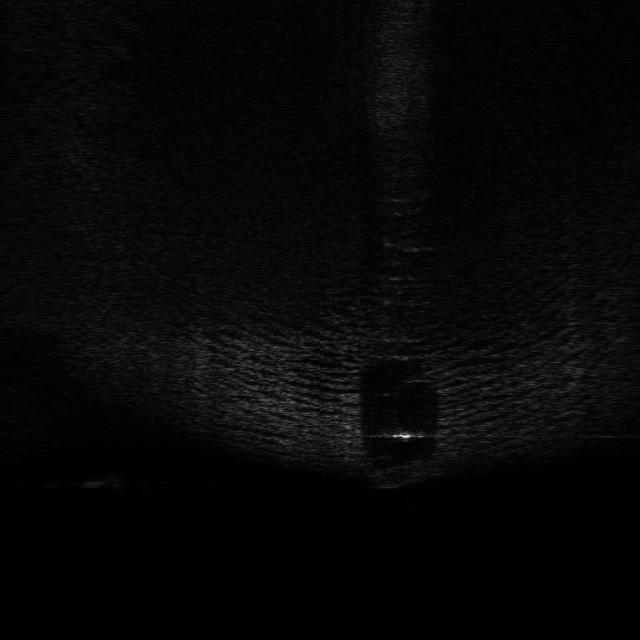cube: (368, 455, 444, 491)
